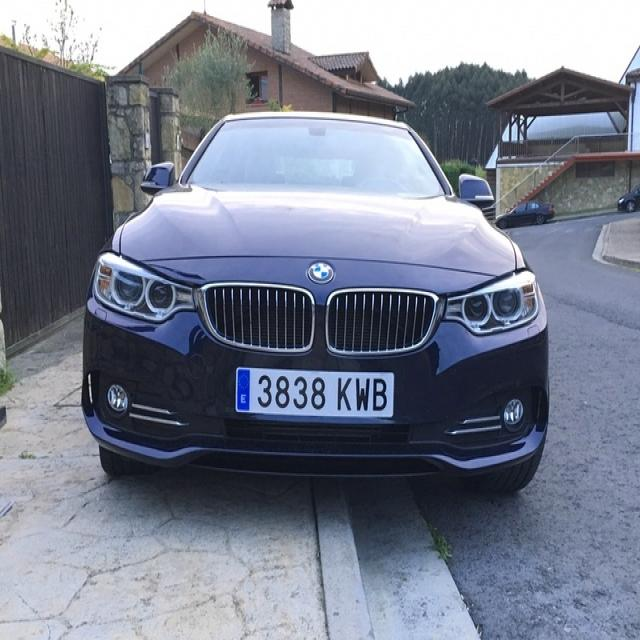License-Plate: (233, 364, 395, 421)
